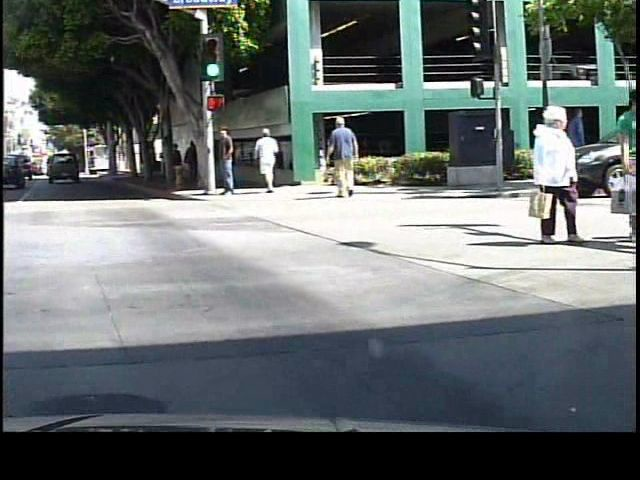person: (523, 99, 584, 251), (609, 90, 639, 244), (329, 115, 364, 198), (219, 125, 248, 207), (560, 104, 588, 183), (255, 124, 283, 197), (183, 138, 204, 189), (169, 142, 185, 188)
